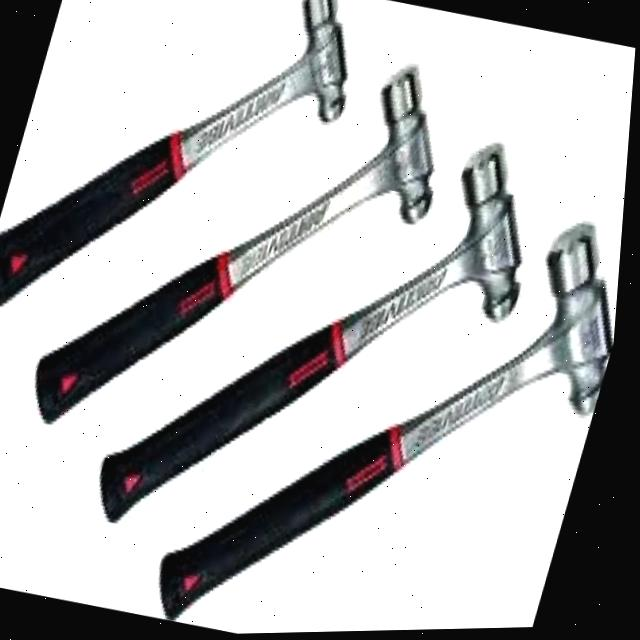hammer: (109, 126, 632, 637), (79, 79, 565, 601), (0, 0, 476, 497), (0, 0, 382, 369)
